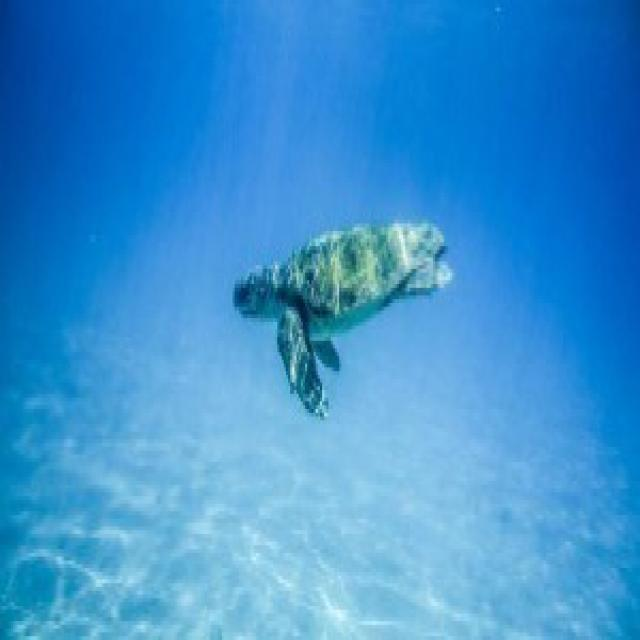Sea turtle: (194, 222, 466, 424)
